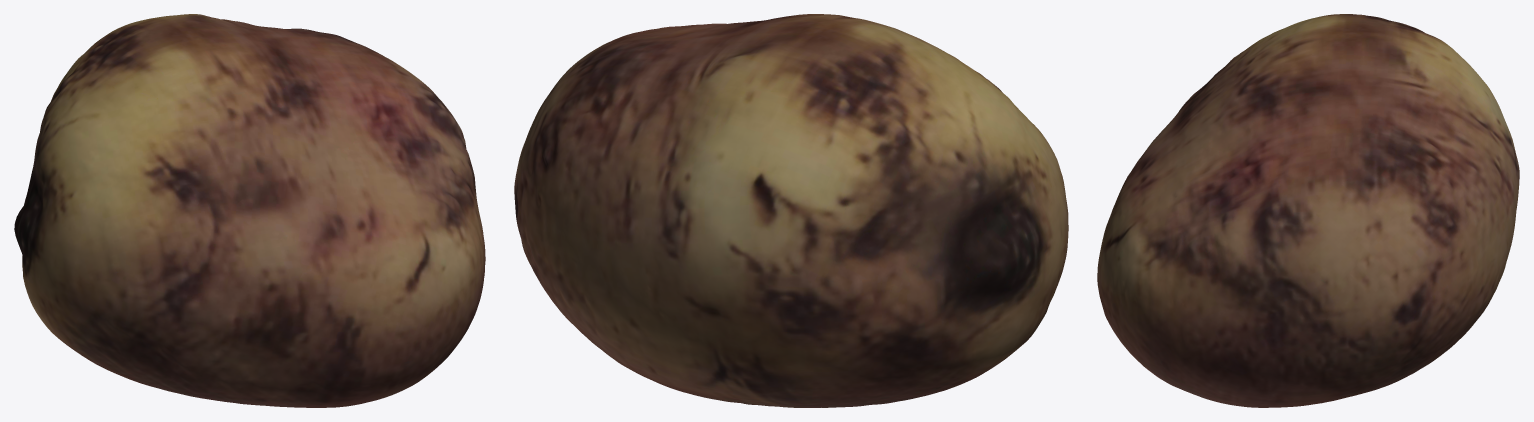
The model's file is 1741cd188370_rotten_potato__3d_a.fbx.
3 views of the same model, side by side, from view 1: azimuth 30°, elevation 25°; view 2: azimuth 150°, elevation 25°; view 3: azimuth 270°, elevation 25° (orthographic). The views are drawn at different scales.
Parts seen in each view (by area): view 1: high_poly; view 2: high_poly; view 3: high_poly.
Boxes of the visible parts, <box> form: high_poly: <box>14,14,485,407</box>; high_poly: <box>514,14,1068,407</box>; high_poly: <box>1097,14,1519,407</box>.
Size of the model in its own units: 100 by 73.5 by 90.93.
